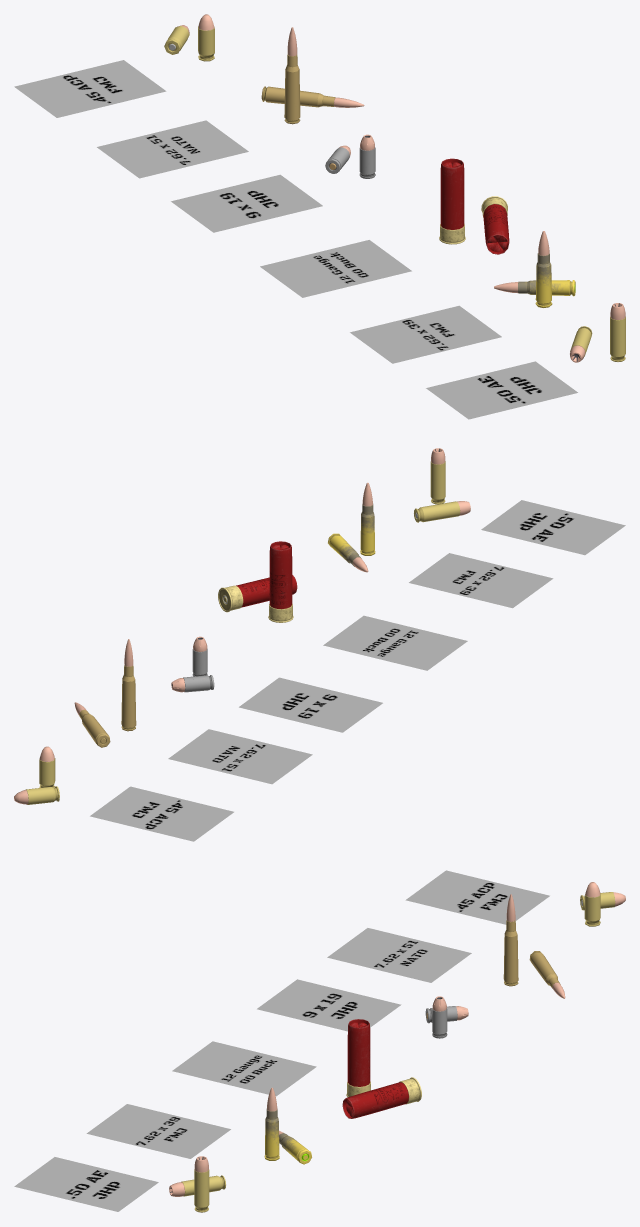
The picture shows the model from 3 angles, top to bottom: view 1: azimuth 30°, elevation 25°; view 2: azimuth 150°, elevation 25°; view 3: azimuth 330°, elevation 25°; orthographic projection. The views are drawn at different scales.
Parts seen in each view (by area): view 1: Plane, 12 gauge 00 buckshot, 12 gauge 00 buckshot.001, 7.62 x 51 NATO, 7.62 x 51 NATO.001, 7.62 x 30 FMJ, .50 AE, 7.62 x 30 FMJ.001, Cylinder, 9 x 19 JHP; view 2: Plane, 12 gauge 00 buckshot, 12 gauge 00 buckshot.001, 7.62 x 51 NATO, 7.62 x 30 FMJ, .50 AE.001, .50 AE, Cylinder.001, 7.62 x 51 NATO.001, 7.62 x 30 FMJ.001, 9 x 19 JHP.001, Cylinder (+1 smaller); view 3: Plane, 12 gauge 00 buckshot.001, 12 gauge 00 buckshot, 7.62 x 51 NATO, 7.62 x 30 FMJ, .50 AE, Cylinder, 7.62 x 51 NATO.001, .50 AE.001, 9 x 19 JHP, 7.62 x 30 FMJ.001.
Boxes of the visible parts, x1=… form: Plane: x1=14, y1=60, x2=577, y2=419; 12 gauge 00 buckshot: x1=439, y1=158, x2=465, y2=244; 12 gauge 00 buckshot.001: x1=481, y1=196, x2=509, y2=254; 7.62 x 51 NATO: x1=284, y1=27, x2=300, y2=124; 7.62 x 51 NATO.001: x1=261, y1=86, x2=364, y2=107; 7.62 x 30 FMJ: x1=535, y1=231, x2=552, y2=307; .50 AE: x1=610, y1=303, x2=625, y2=361; 7.62 x 30 FMJ.001: x1=494, y1=280, x2=575, y2=296; Cylinder: x1=198, y1=14, x2=214, y2=61; 9 x 19 JHP: x1=359, y1=134, x2=375, y2=178; Plane: x1=90, y1=500, x2=625, y2=841; 12 gauge 00 buckshot: x1=268, y1=541, x2=293, y2=622; 12 gauge 00 buckshot.001: x1=218, y1=575, x2=297, y2=612; 7.62 x 51 NATO: x1=121, y1=639, x2=136, y2=731; 7.62 x 30 FMJ: x1=360, y1=482, x2=375, y2=555; .50 AE.001: x1=414, y1=501, x2=470, y2=522; .50 AE: x1=430, y1=448, x2=445, y2=504; Cylinder.001: x1=14, y1=786, x2=59, y2=804; 7.62 x 51 NATO.001: x1=74, y1=702, x2=110, y2=747; 7.62 x 30 FMJ.001: x1=328, y1=533, x2=368, y2=572; 9 x 19 JHP.001: x1=171, y1=675, x2=214, y2=692; Cylinder: x1=39, y1=746, x2=55, y2=787; Plane: x1=14, y1=870, x2=549, y2=1211; 12 gauge 00 buckshot.001: x1=342, y1=1077, x2=421, y2=1118; 12 gauge 00 buckshot: x1=346, y1=1019, x2=370, y2=1097; 7.62 x 51 NATO: x1=503, y1=894, x2=518, y2=986; 7.62 x 30 FMJ: x1=264, y1=1087, x2=279, y2=1160; .50 AE: x1=194, y1=1156, x2=209, y2=1212; Cylinder: x1=584, y1=882, x2=600, y2=926; 7.62 x 51 NATO.001: x1=529, y1=951, x2=565, y2=998; .50 AE.001: x1=169, y1=1175, x2=225, y2=1196; 9 x 19 JHP: x1=432, y1=996, x2=447, y2=1038; 7.62 x 30 FMJ.001: x1=279, y1=1130, x2=311, y2=1164.
Size of the model in its own units: 0.188 by 0.0714 by 0.6362.
7 materials, 7 textured.
